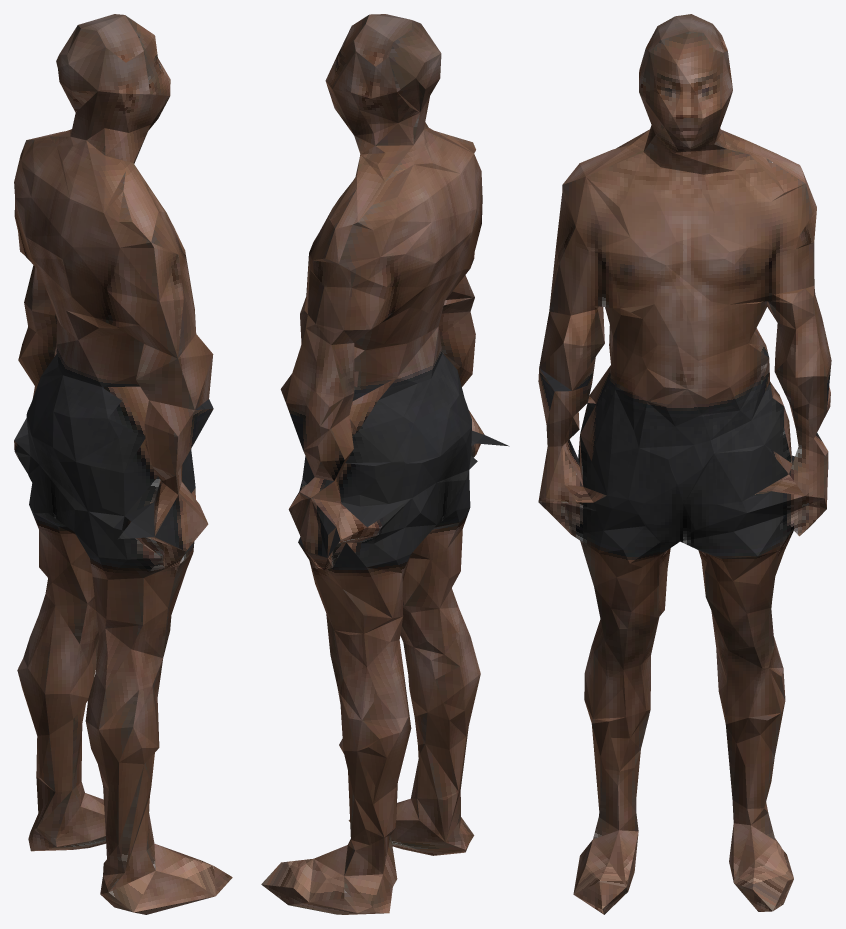
File: personaje.base.cuerpo_robusto.glb
3 views of the same model, side by side, from view 1: azimuth 30°, elevation 25°; view 2: azimuth 150°, elevation 25°; view 3: azimuth 270°, elevation 25° (orthographic).
Visible parts, largest first — view 1: personaje.base.cuerpo_robusto; view 2: personaje.base.cuerpo_robusto; view 3: personaje.base.cuerpo_robusto.
Part boxes in pixels (bbox=[...]): personaje.base.cuerpo_robusto: bbox=[14, 14, 232, 914]; personaje.base.cuerpo_robusto: bbox=[261, 14, 509, 914]; personaje.base.cuerpo_robusto: bbox=[538, 14, 831, 914].
Size of the model in its own units: 0.3339 by 1.85 by 0.572.
Materials: 1 (1 with a texture image).
